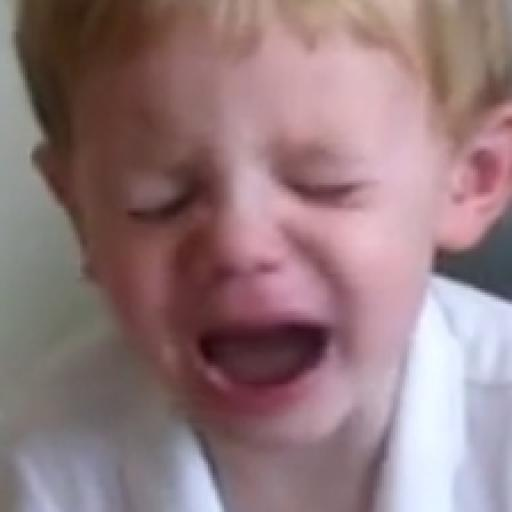Autism: (25, 0, 506, 474)
